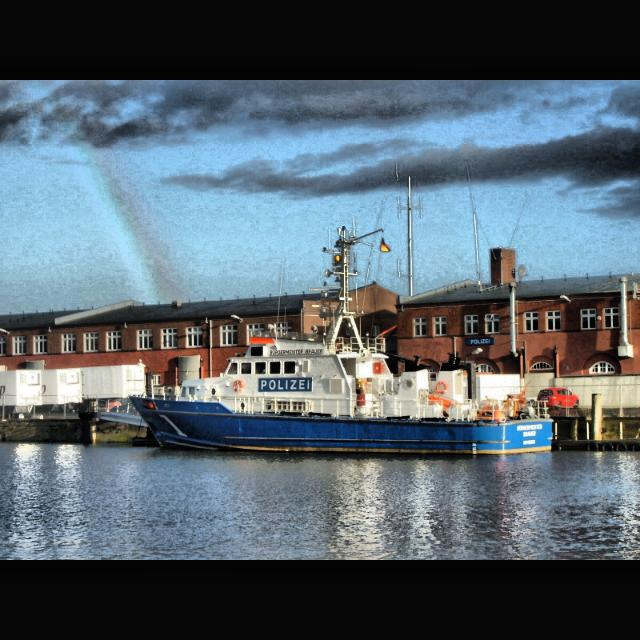patrol_vessel: (126, 306, 560, 456)
